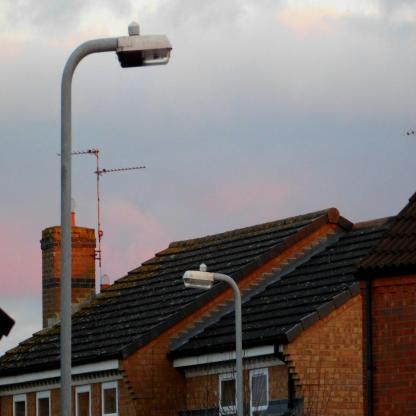light_pole: (60, 22, 173, 416), (183, 264, 243, 416)
